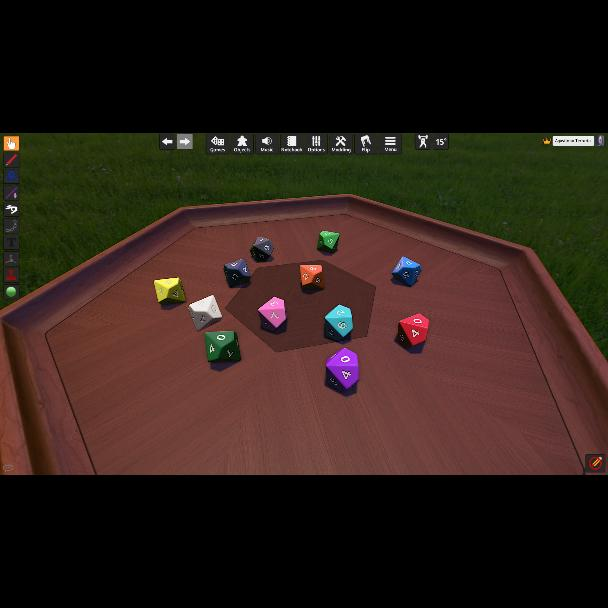d10: (324, 348, 357, 390), (188, 295, 221, 331), (204, 331, 240, 363), (398, 312, 428, 348), (323, 306, 351, 340), (258, 297, 286, 331), (392, 256, 420, 288), (155, 277, 187, 305), (223, 258, 250, 288), (250, 238, 274, 262), (317, 231, 339, 253), (300, 266, 320, 290)
